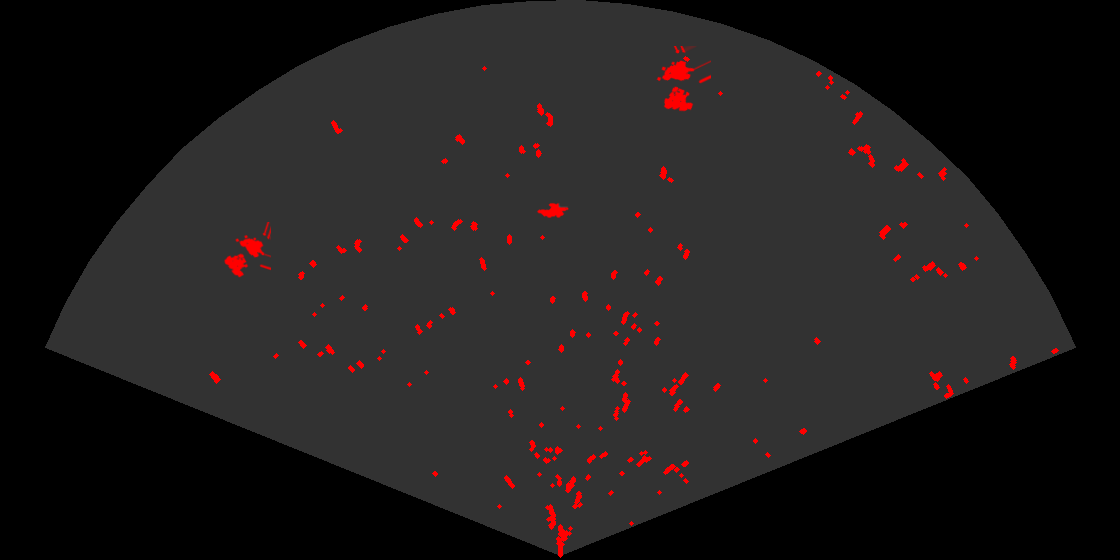AUV: (535, 201, 570, 218)
cage: (655, 46, 711, 113), (222, 222, 271, 279)
